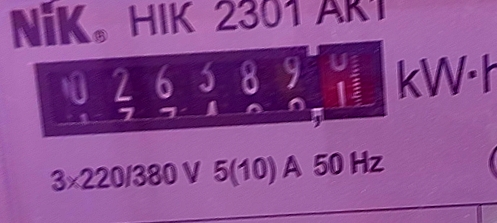0: (65, 67, 90, 107), (329, 51, 348, 72)
1: (334, 78, 348, 109)
2: (110, 64, 135, 104)
3: (197, 60, 215, 95)
6: (154, 61, 173, 101)
8: (239, 57, 261, 96)
9: (282, 55, 301, 89)
screen: (19, 28, 403, 149)
